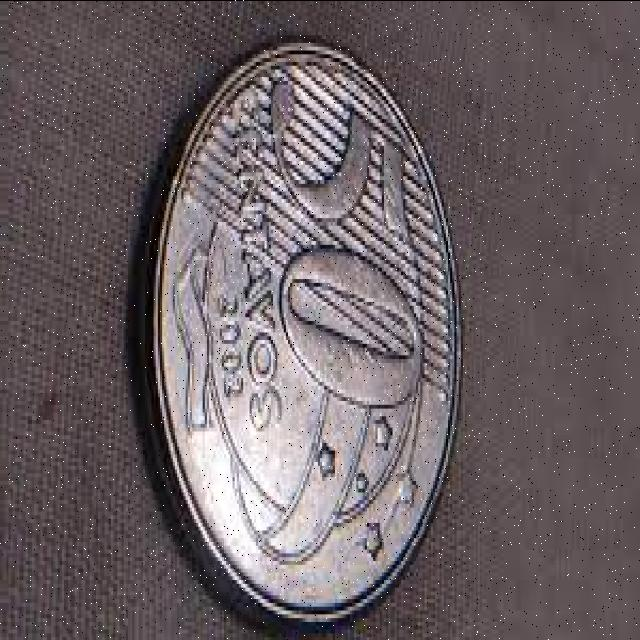50 cent: (138, 34, 463, 634)
